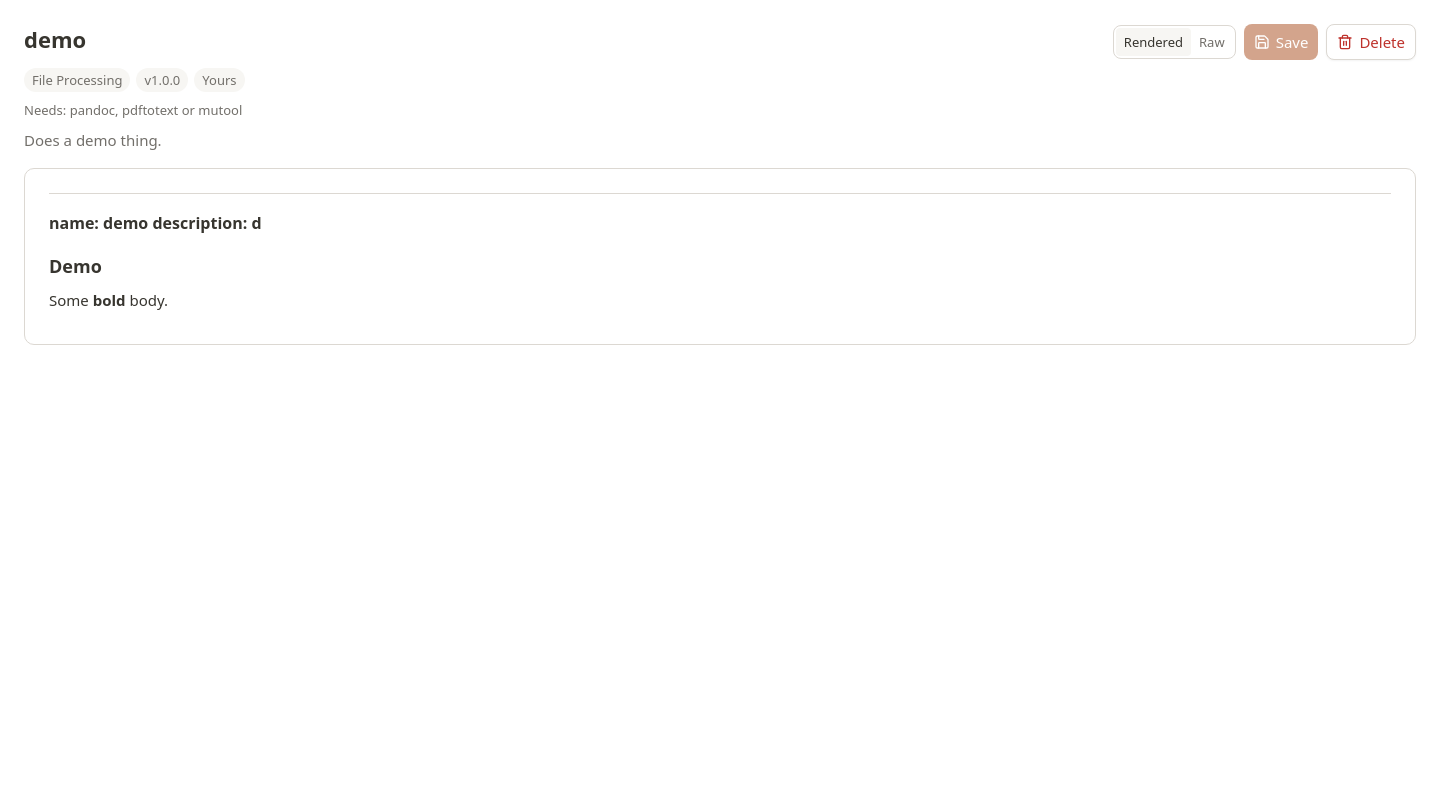
Scenario: SkillView: user skills have an editable raw view, Save disabled until dirty
Step 1. Click the button "raw" → (1212, 42), box [1191,28,1233,56]
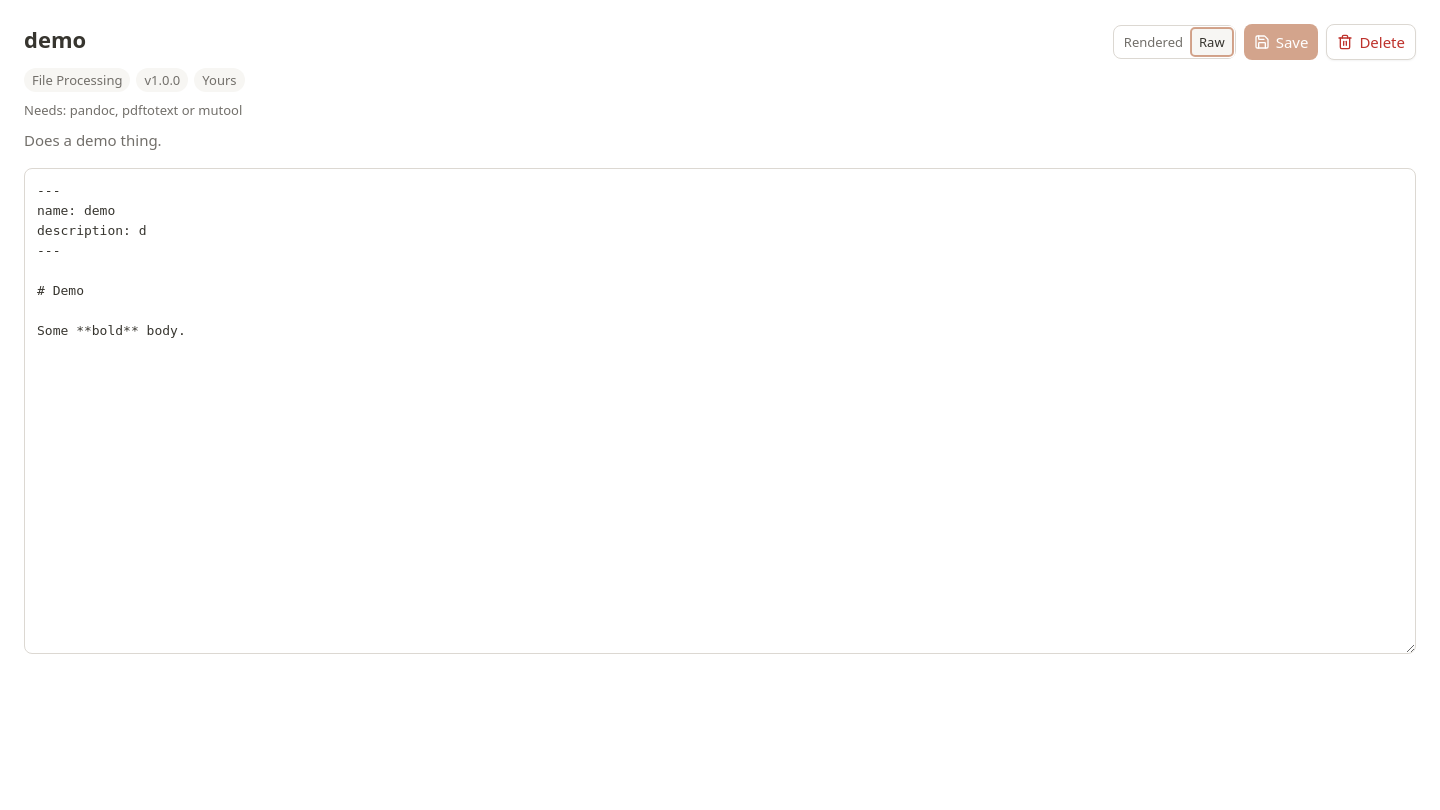
Check: the button with aria-label "save skill" is disabled, box [1244,24,1318,60]
Step 2. Type "x" into the text box named "SKILL.md" → (720, 411), box [24,168,1416,654]
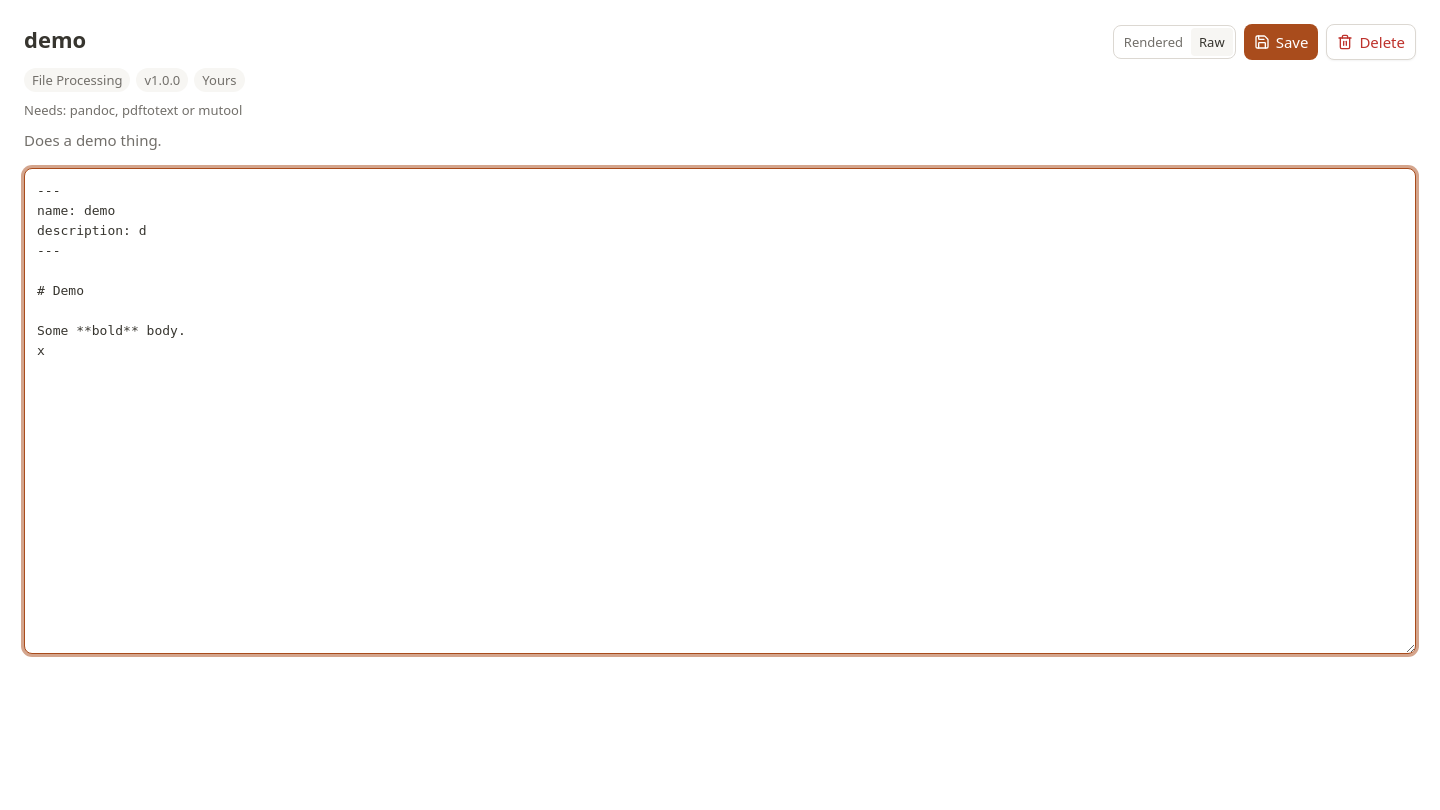
Check: the button with aria-label "save skill" is enabled, box [1244,24,1318,60]
